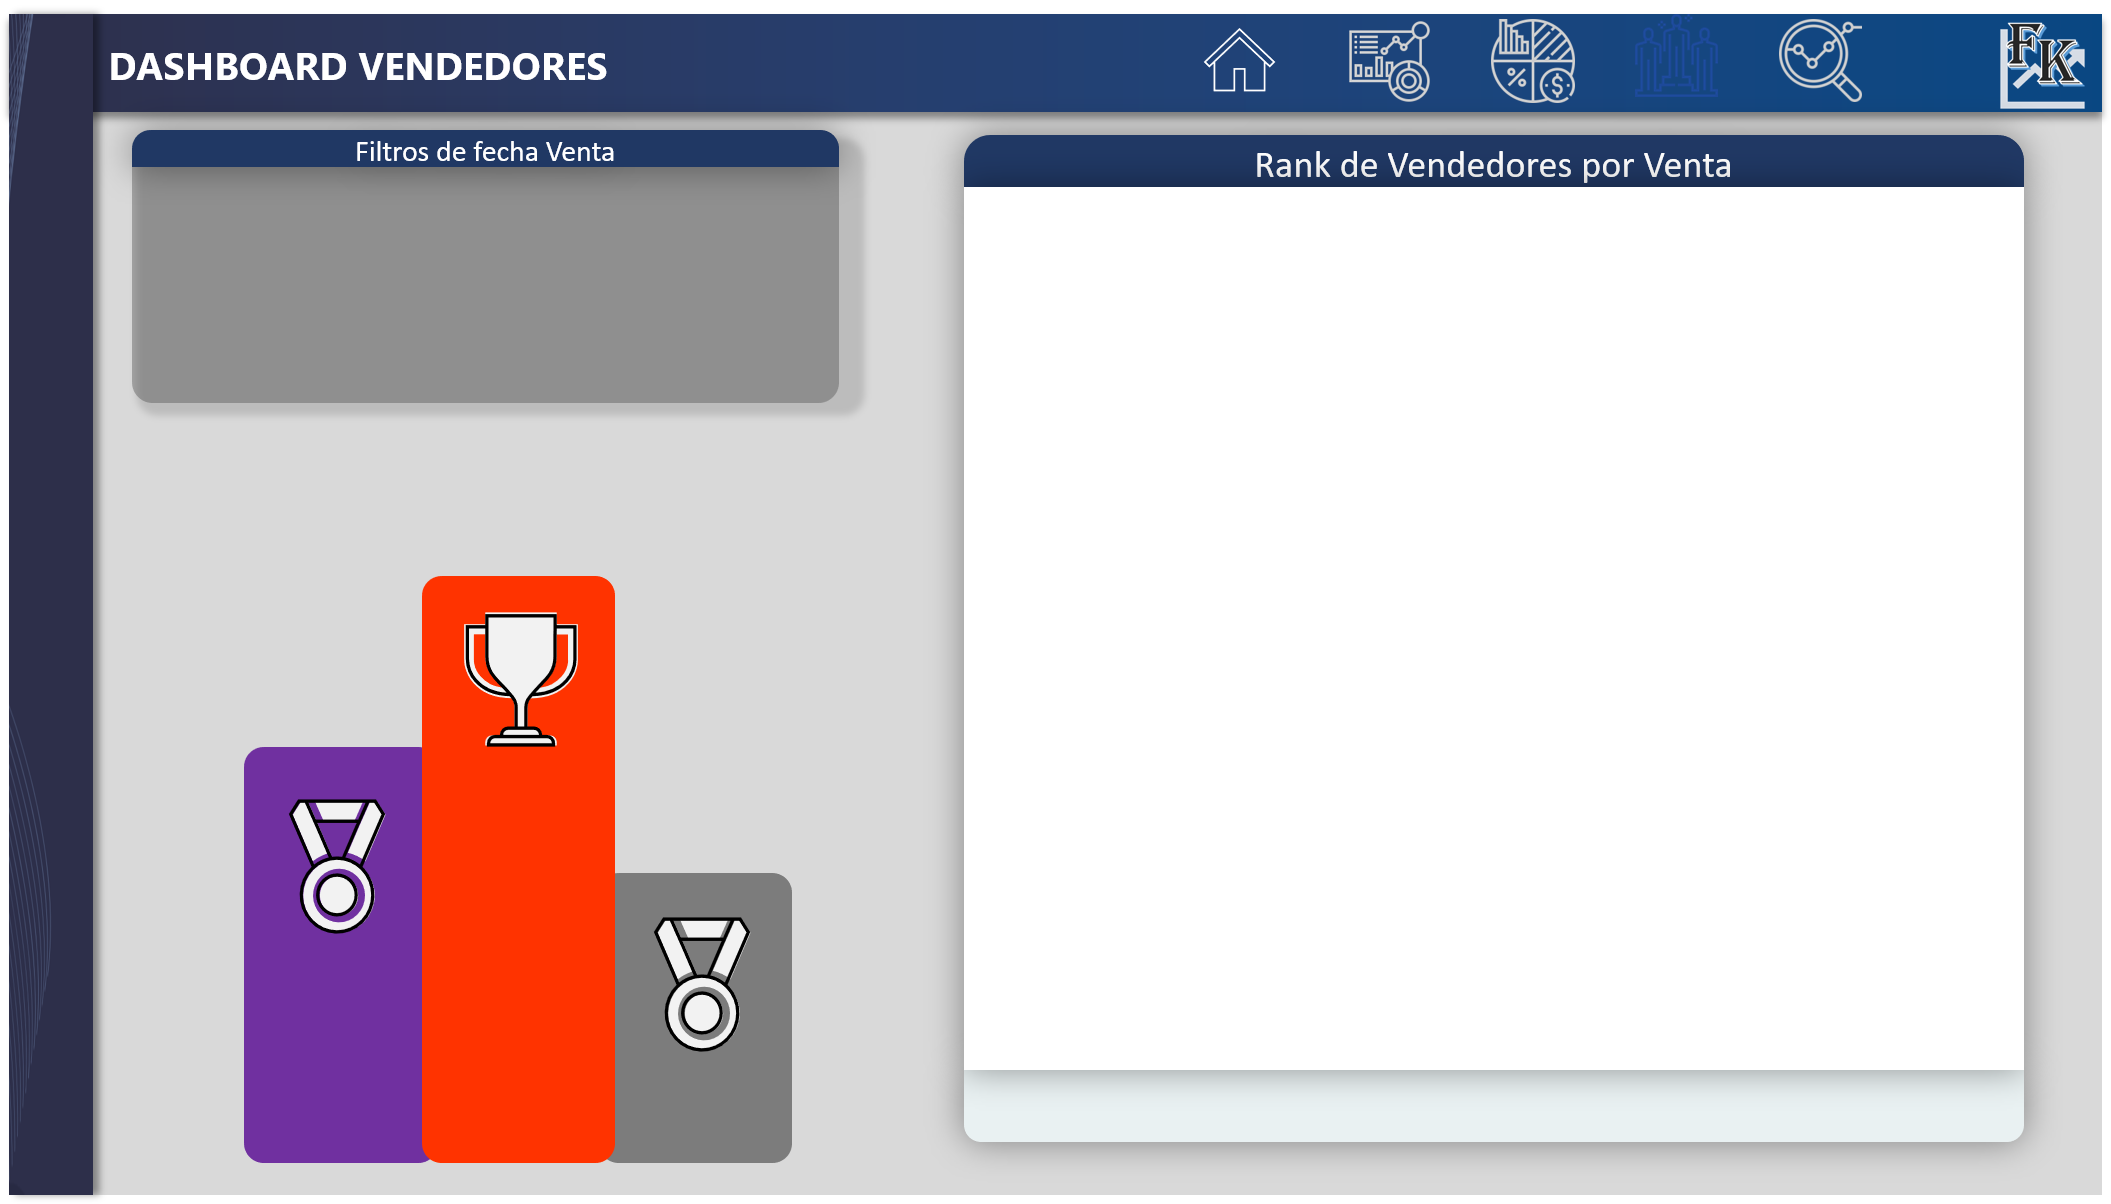

This screenshot's page, from the dashboard's own definition file:
{"tool":"powerbi","page":{"name":"Vendedores","canvas":[1280,720],"ordinal":3},"visuals":[{"type":"actionButton","box":[729.6,8.6,52.9,57.8],"z":0},{"type":"actionButton","title":"Botón","box":[1076.4,8.6,52.9,57.8],"z":1000},{"type":"actionButton","box":[903.7,8.6,52.9,57.8],"z":2000},{"type":"actionButton","box":[817.5,8.9,53.6,58],"z":3000},{"type":"slicer","fields":{"Values":["Ventas.fecha_venta"]},"box":[86.6,123.1,201.7,94.6],"z":4000},{"type":"slicer","fields":{"Values":["Ventas.fecha_venta.Variación.Jerarquía de fechas.Año"]},"box":[297.5,101.6,201.7,70.1],"z":5000},{"type":"slicer","fields":{"Values":["Ventas.fecha_venta.Variación.Jerarquía de fechas.Mes"]},"box":[297.5,171.7,201.7,67.6],"z":6000},{"type":"tableEx","fields":{"Values":["Medidas.1ºvendedor","Vendedores.imagen_vendedor","Vendedores.desc_vendedor","Sum(Ventas.valor_venta)"]},"box":[590.2,123,633.2,511.5],"z":7000}]}

Visuals, with their boxes in screenshot pixels (x1, y1, x2, y2), scaled from the page's 1280x720 canvas onto the 2111x1204 screenshot:
actionButton: region(1203, 14, 1291, 111)
"Botón" actionButton: region(1775, 14, 1862, 111)
actionButton: region(1490, 14, 1578, 111)
actionButton: region(1348, 15, 1437, 112)
slicer - Ventas.fecha_venta: region(143, 206, 475, 364)
slicer - Ventas.fecha_venta.Variación.Jerarquía de fechas.Año: region(491, 170, 823, 287)
slicer - Ventas.fecha_venta.Variación.Jerarquía de fechas.Mes: region(491, 287, 823, 400)
tableEx - Medidas.1ºvendedor x Vendedores.imagen_vendedor: region(973, 206, 2018, 1061)
